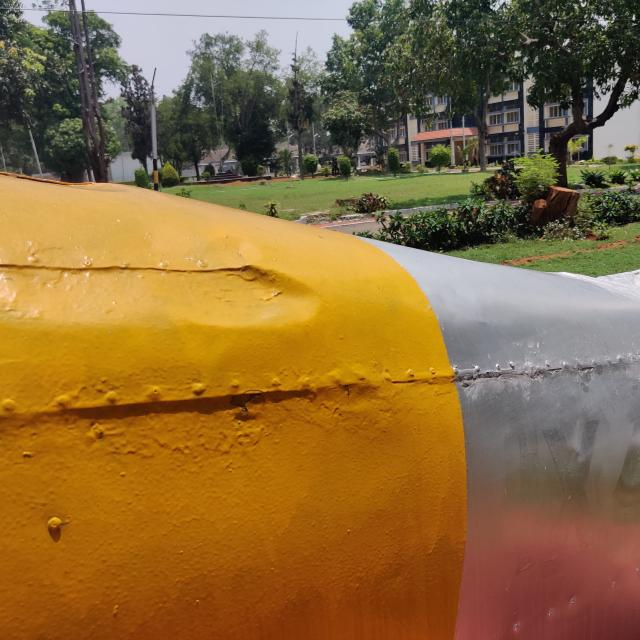dent: (160, 232, 352, 358)
